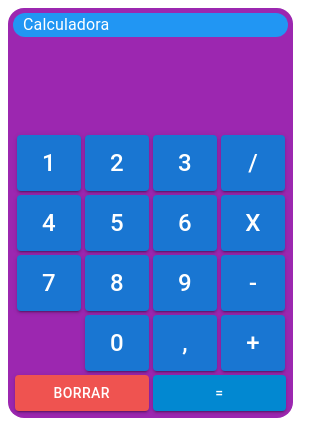
Calculadora › Debe mostrar los numeros que se vayan presionando
Click the button "1".
click(49, 163)  # box [17,135,81,191]
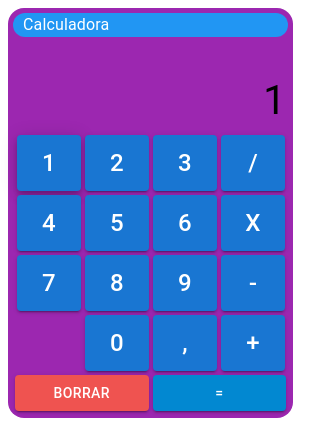
Click the button "2".
click(117, 163)  # box [85,135,149,191]
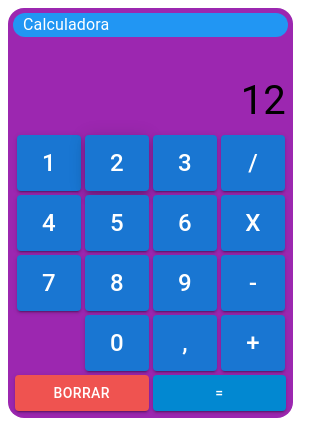
Click the button "3".
click(185, 163)  # box [153,135,217,191]
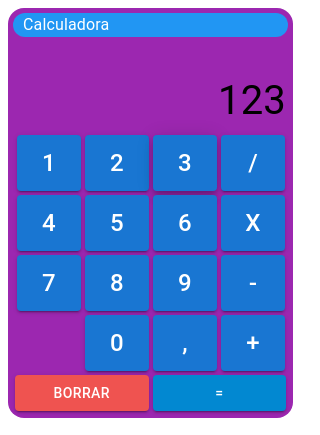
Check: the field with test id "resultado" holds "123", box [13,70,288,131]
